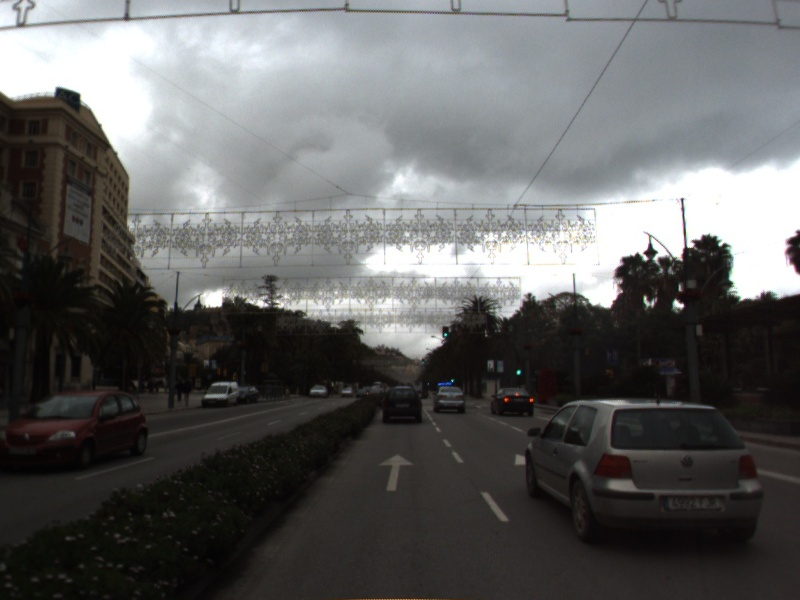STRAIGHT: (377, 452, 416, 493)
